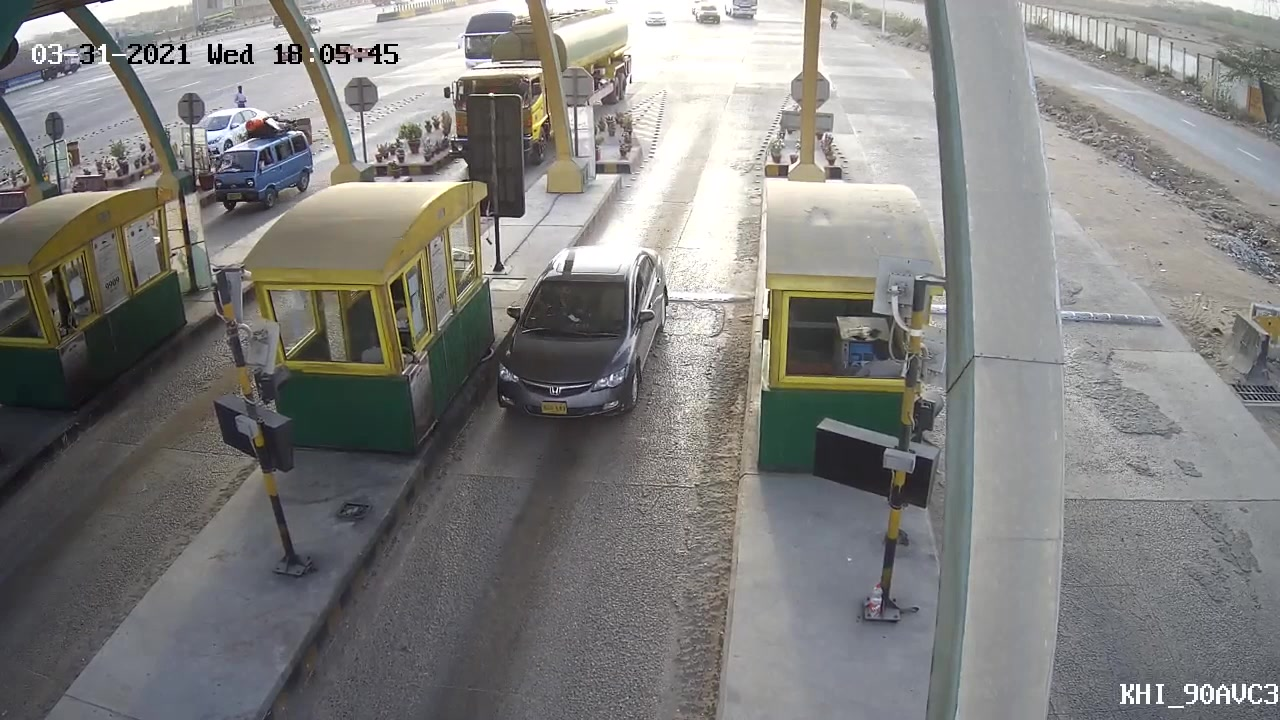F1: (491, 239, 675, 438)
